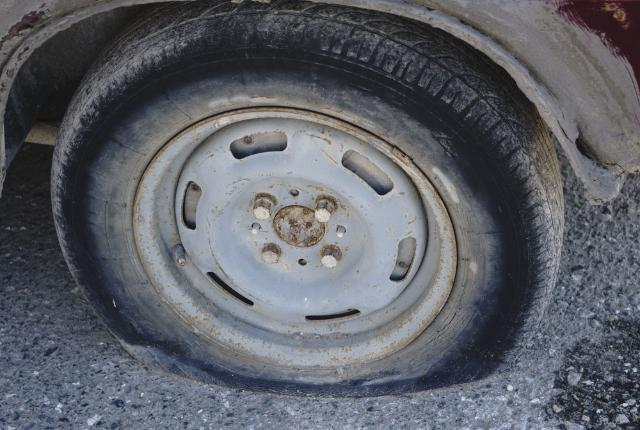tire flat: (53, 0, 563, 403)
